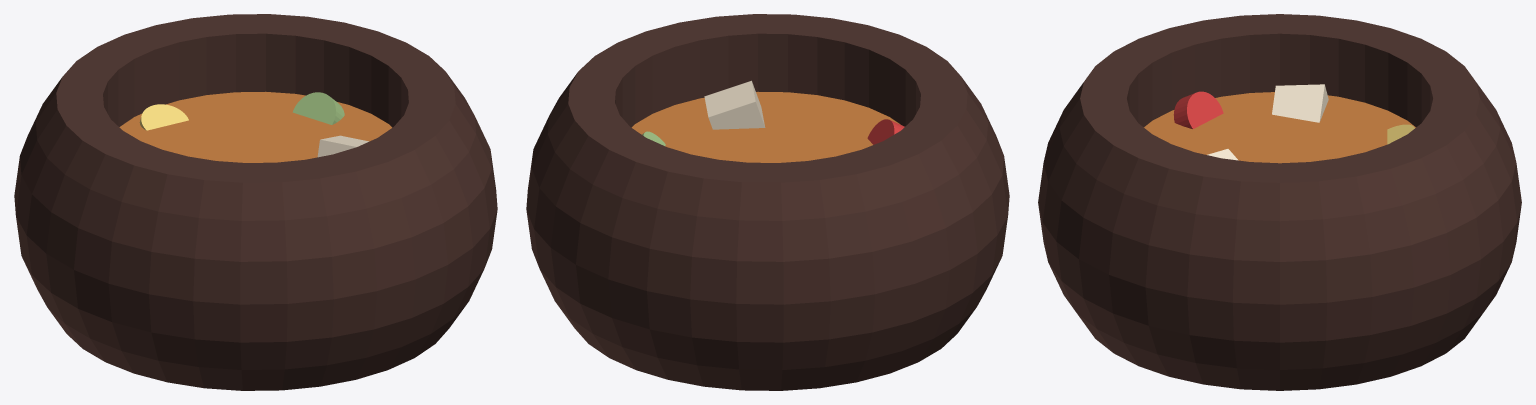
The model's file is 된장찌게.glb.
3 renders of one model, left to right at view 1: azimuth 30°, elevation 25°; view 2: azimuth 150°, elevation 25°; view 3: azimuth 270°, elevation 25°, orthographic.
Parts seen in each view (by area): view 1: Cylinder; view 2: Cylinder; view 3: Cylinder.
Part boxes in pixels (x1=…): Cylinder: x1=14, y1=14, x2=497, y2=390; Cylinder: x1=526, y1=14, x2=1009, y2=390; Cylinder: x1=1038, y1=14, x2=1521, y2=390.
Size of the model in its own units: 2.42 by 1.15 by 2.42.
